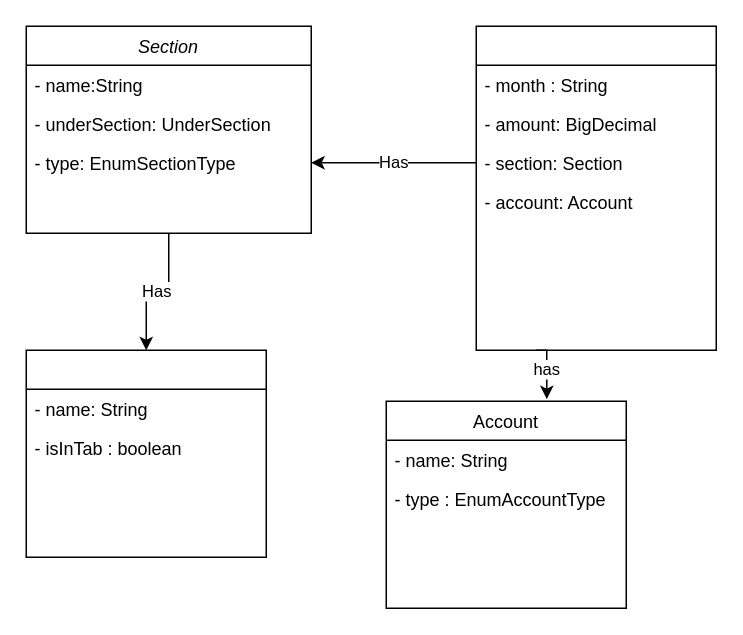
Image size: 743x635. Some labels were removed from this diagram. Each missing label, with the box of its shape:
Donnée: (475, 25, 716, 350)
UnderSection: (25, 349, 266, 557)
